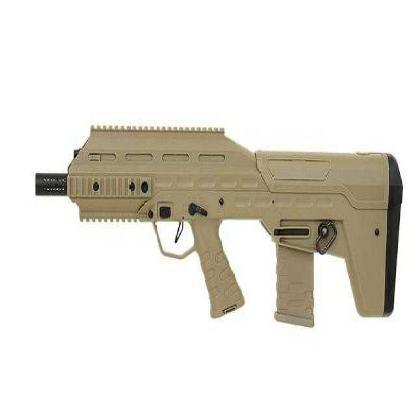rifle: (22, 83, 412, 353)
